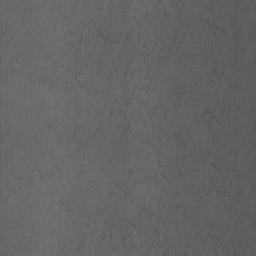Silk spot: (0, 0, 256, 256), (0, 100, 9, 142)
